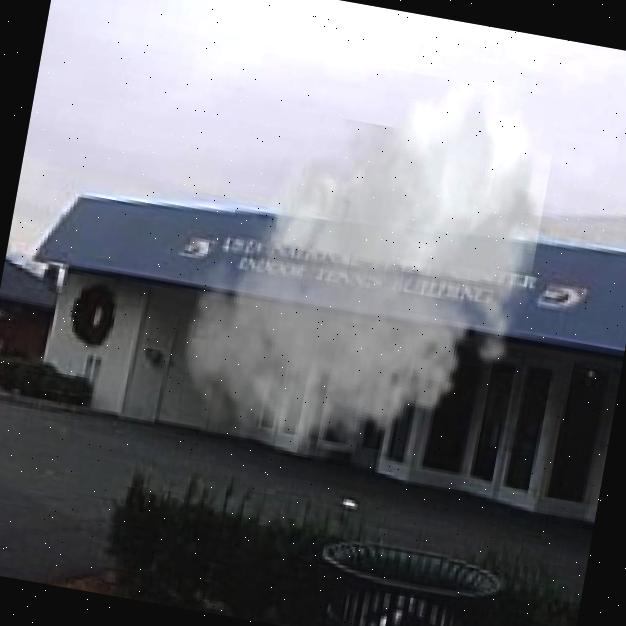smoke: (159, 38, 576, 506)
